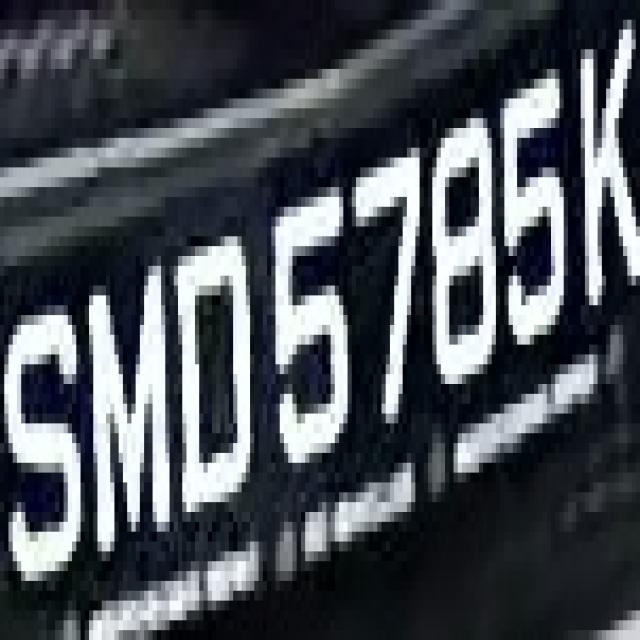5: (263, 167, 352, 512), (488, 39, 572, 384)
7: (335, 118, 428, 453)
8: (419, 89, 508, 404)
D: (170, 216, 258, 552)
K: (572, 10, 640, 374)
M: (76, 236, 178, 581)
S: (4, 266, 85, 620)
